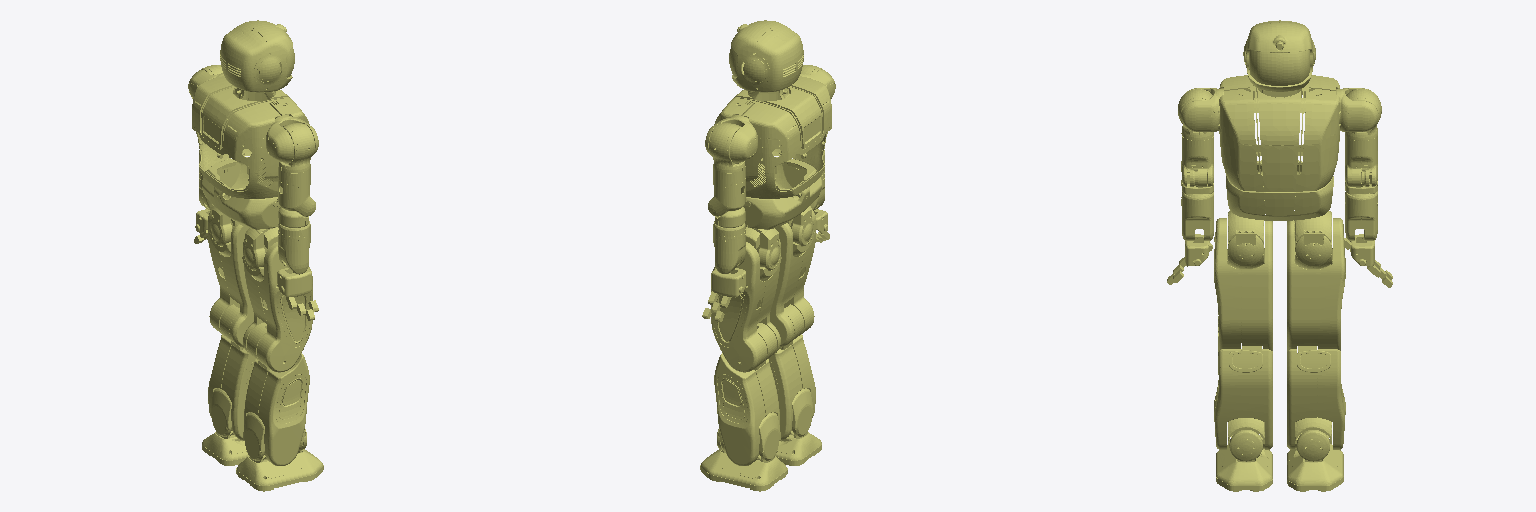
--- Render facts (derived) ---
3 views of the same robot in one strip: view 1: azimuth 30°, elevation 25°; view 2: azimuth 150°, elevation 25°; view 3: azimuth 270°, elevation 25° (orthographic).
Robot: huboplus — 58 links, 57 joints (57 revolute); root link Body_Torso; default pose: all joints at 0.
Links seen in each view (by area): view 1: Body_Torso, Body_RKP, Body_RHP, Body_HNP, Body_LHP, Body_LKP, Body_Hip, Body_RAR, Body_RSY, Body_RWY, Body_RSP, Body_RSR (+6 smaller); view 2: Body_Torso, Body_LKP, Body_LHP, Body_HNP, Body_RHP, Body_RKP, Body_Hip, Body_LAR, Body_LSY, Body_LWY, Body_LSP, Body_LSR (+6 smaller); view 3: Body_Torso, Body_RHP, Body_LHP, Body_RKP, Body_LKP, Body_HNP, Body_Hip, Body_RAR, Body_LAR, Body_LWY, Body_RWY, Body_LSY (+13 smaller).
Link boxes in pixels (box(x1,y1,x2,y2)): Body_Torso: box(192, 76, 309, 198); Body_RKP: box(244, 323, 309, 465); Body_RHP: box(243, 239, 312, 372); Body_HNP: box(220, 20, 294, 92); Body_LHP: box(208, 210, 253, 347); Body_LKP: box(208, 304, 255, 440); Body_Hip: box(202, 159, 280, 229); Body_RAR: box(236, 429, 323, 491); Body_RSY: box(278, 160, 315, 216); Body_RWY: box(278, 221, 310, 274); Body_RSP: box(266, 115, 318, 162); Body_RSR: box(279, 123, 314, 172); Body_Torso: box(714, 76, 831, 198); Body_LKP: box(714, 323, 779, 465); Body_LHP: box(711, 239, 780, 372); Body_HNP: box(729, 20, 803, 92); Body_RHP: box(770, 210, 815, 347); Body_RKP: box(768, 304, 815, 440); Body_Hip: box(743, 159, 821, 229); Body_LAR: box(700, 429, 787, 491); Body_LSY: box(708, 160, 745, 216); Body_LWY: box(713, 221, 745, 273); Body_LSP: box(705, 115, 757, 162); Body_LSR: box(709, 123, 744, 172); Body_Torso: box(1219, 75, 1339, 191); Body_RHP: box(1214, 218, 1272, 351); Body_LHP: box(1287, 218, 1345, 350); Body_RKP: box(1214, 346, 1272, 449); Body_LKP: box(1287, 346, 1345, 449); Body_HNP: box(1243, 20, 1315, 91); Body_Hip: box(1226, 160, 1333, 220); Body_RAR: box(1216, 429, 1272, 491); Body_LAR: box(1287, 429, 1343, 491); Body_LWY: box(1345, 184, 1377, 240); Body_RWY: box(1181, 185, 1213, 240); Body_LSY: box(1345, 136, 1377, 186).
Size in the robot's own frame: 0.2767 by 0.5883 by 1.29 metres.
39 mesh visuals loaded from 57 distinct referenced files (39 Collada DAE); not drawn: 18 (reference not matched to a file when rendering).

robot.urdf — huboplus:
<?xml version="1.0" ?>
<!-- =================================================================================== -->
<!-- |    This document was autogenerated by xacro from huboplus.xacro                 | -->
<!-- |    EDITING THIS FILE BY HAND IS NOT RECOMMENDED                                 | -->
<!-- =================================================================================== -->
<robot name="huboplus" xmlns:xacro="http://www.ros.org/wiki/xacro">
  <link name="Body_Torso">
    <inertial>
      <mass value="7.50334"/>
      <inertia ixx="0.102019" ixy="2.45462e-05" ixz="0.00713022" iyy="0.0832724" iyz="-0.00131733" izz="0.086493"/>
      <origin xyz="0 0 0"/>
    </inertial>
    <visual>
      <geometry>
        <mesh filename="huboplus-dae/Body_Torso_vis.dae"/>
      </geometry>
      <material name="random">
        <color rgba="0.800000 0.800000 0.500000 1"/>
      </material>
    </visual>
    <collision>
      <geometry>
        <mesh filename="huboplus-dae/Body_Torso_col.dae"/>
      </geometry>
    </collision>
  </link>
  <link name="Body_HNR">
</link>
  <link name="Body_HNP">
    <inertial>
      <mass value="0.374251"/>
      <inertia ixx="0.00164033" ixy="-1.08171e-07" ixz="-9.53978e-05" iyy="0.00153943" iyz="1.25376e-06" izz="0.00190393"/>
      <origin xyz="0.0106886 -3.00864e-05 0.032123"/>
    </inertial>
    <visual>
      <geometry>
        <mesh filename="huboplus-dae/Body_HNP_vis.dae"/>
      </geometry>
      <material name="random">
        <color rgba="0.800000 0.800000 0.500000 1"/>
      </material>
    </visual>
    <collision>
      <geometry>
        <mesh filename="huboplus-dae/Body_HNP_col.dae"/>
      </geometry>
    </collision>
  </link>
  <link name="Body_LSP">
    <inertial>
      <mass value="0.646655"/>
      <inertia ixx="0.000893731" ixy="-0.000156484" ixz="4.98007e-07" iyy="0.00093016" iyz="1.57095e-07" izz="0.00124323"/>
      <origin xyz="0.0167207 0.0570407 9.91873e-06"/>
    </inertial>
    <visual>
      <geometry>
        <mesh filename="huboplus-dae/Body_LSP_vis.dae"/>
      </geometry>
      <material name="random">
        <color rgba="0.800000 0.800000 0.500000 1"/>
      </material>
    </visual>
    <collision>
      <geometry>
        <mesh filename="huboplus-dae/Body_LSP_col.dae"/>
      </geometry>
    </collision>
  </link>
  <link name="Body_LSR">
    <inertial>
      <mass value="0.413368"/>
      <inertia ixx="0.000269283" ixy="4.52571e-07" ixz="3.23662e-06" iyy="0.00037679" iyz="9.93935e-07" izz="0.000360355"/>
      <origin xyz="-0.036208 -8.31243e-05 -0.00126685"/>
    </inertial>
    <visual>
      <geometry>
        <mesh filename="huboplus-dae/Body_LSR_vis.dae"/>
      </geometry>
      <material name="random">
        <color rgba="0.800000 0.800000 0.500000 1"/>
      </material>
    </visual>
    <collision>
      <geometry>
        <mesh filename="huboplus-dae/Body_LSR_col.dae"/>
      </geometry>
    </collision>
  </link>
  <link name="Body_LSY">
    <inertial>
      <mass value="1.15461"/>
      <inertia ixx="0.00365479" ixy="2.05436e-06" ixz="0.000418448" iyy="0.00364731" iyz="-3.09648e-05" izz="0.00060633"/>
      <origin xyz="0.00456121 3.10576e-05 -0.0907824"/>
    </inertial>
    <visual>
      <geometry>
        <mesh filename="huboplus-dae/Body_LSY_vis.dae"/>
      </geometry>
      <material name="random">
        <color rgba="0.800000 0.800000 0.500000 1"/>
      </material>
    </visual>
    <collision>
      <geometry>
        <mesh filename="huboplus-dae/Body_LSY_col.dae"/>
      </geometry>
    </collision>
  </link>
  <link name="Body_LEP">
    <inertial>
      <mass value="0.44094"/>
      <inertia ixx="0.0005027" ixy="3.64587e-06" ixz="-1.41388e-05" iyy="0.00049415" iyz="7.65528e-06" izz="0.000131786"/>
      <origin xyz="-0.0217349 0.0178314 -0.0610873"/>
    </inertial>
    <visual>
      <geometry>
        <mesh filename="huboplus-dae/Body_LEP_vis.dae"/>
      </geometry>
      <material name="random">
        <color rgba="0.800000 0.800000 0.500000 1"/>
      </material>
    </visual>
    <collision>
      <geometry>
        <mesh filename="huboplus-dae/Body_LEP_col.dae"/>
      </geometry>
    </collision>
  </link>
  <link name="Body_LWY">
    <inertial>
      <mass value="0.537738"/>
      <inertia ixx="0.00063457" ixy="-4.62486e-07" ixz="6.20682e-06" iyy="0.000563918" iyz="3.54044e-05" izz="0.000305422"/>
      <origin xyz="-0.00122019 0.000635233 -0.0238043"/>
    </inertial>
    <visual>
      <geometry>
        <mesh filename="huboplus-dae/Body_LWY_vis.dae"/>
      </geometry>
      <material name="random">
        <color rgba="0.800000 0.800000 0.500000 1"/>
      </material>
    </visual>
    <collision>
      <geometry>
        <mesh filename="huboplus-dae/Body_LWY_col.dae"/>
      </geometry>
    </collision>
  </link>
  <link name="Body_LWP">
    <inertial>
      <mass value="0.164393"/>
      <inertia ixx="9.74327e-05" ixy="-5.22155e-07" ixz="-1.17317e-06" iyy="0.000144494" iyz="9.4927e-06" izz="0.000122681"/>
      <origin xyz="-0.000258199 0.011442 -0.0461472"/>
    </inertial>
    <visual>
      <geometry>
        <mesh filename="huboplus-dae/Body_LWP_vis.dae"/>
      </geometry>
      <material name="random">
        <color rgba="0.800000 0.800000 0.500000 1"/>
      </material>
    </visual>
    <collision>
      <geometry>
        <mesh filename="huboplus-dae/Body_LWP_col.dae"/>
      </geometry>
    </collision>
  </link>
  <link name="leftThumbProximal">
    <inertial>
      <mass value="0.096"/>
      <inertia ixx="2.304e-06" ixy="0" ixz="0" iyy="8.96e-06" iyz="6.85949e-15" izz="9.216e-06"/>
      <origin xyz="0.024 0 0"/>
    </inertial>
    <visual>
      <geometry>
        <mesh filename="huboplus-dae/leftThumbProximal_vis.dae"/>
      </geometry>
      <material name="random">
        <color rgba="0.800000 0.800000 0.500000 1"/>
      </material>
    </visual>
    <collision>
      <geometry>
        <mesh filename="huboplus-dae/leftThumbProximal_vis.dae"/>
      </geometry>
    </collision>
  </link>
  <link name="leftThumbMedial">
    <inertial>
      <mass value="0.048"/>
      <inertia ixx="1.152e-06" ixy="0" ixz="0" iyy="2.59e-06" iyz="3.42975e-15" izz="2.718e-06"/>
      <origin xyz="0.0165 0 0"/>
    </inertial>
    <visual>
      <geometry>
        <mesh filename="huboplus-dae/leftThumbMedial_vis.dae"/>
      </geometry>
      <material name="random">
        <color rgba="0.800000 0.800000 0.500000 1"/>
      </material>
    </visual>
    <collision>
      <geometry>
        <mesh filename="huboplus-dae/leftThumbMedial_vis.dae"/>
      </geometry>
    </collision>
  </link>
  <link name="leftThumbDistal">
    <inertial>
      <mass value="0.08"/>
      <inertia ixx="1.92e-06" ixy="0" ixz="0" iyy="3.82667e-06" iyz="5.71624e-15" izz="4.04e-06"/>
      <origin xyz="0.015 0 0"/>
    </inertial>
    <visual>
      <geometry>
        <mesh filename="huboplus-dae/leftThumbDistal_vis.dae"/>
      </geometry>
      <material name="random">
        <color rgba="0.800000 0.800000 0.500000 1"/>
      </material>
    </visual>
    <collision>
      <geometry>
        <mesh filename="huboplus-dae/leftThumbDistal_vis.dae"/>
      </geometry>
    </collision>
  </link>
  <link name="leftPinkyProximal">
    <inertial>
      <mass value="0.096"/>
      <inertia ixx="2.304e-06" ixy="0" ixz="0" iyy="8.96e-06" iyz="6.85949e-15" izz="9.216e-06"/>
      <origin xyz="0.024 0 0"/>
    </inertial>
    <visual>
      <geometry>
        <mesh filename="huboplus-dae/leftPinkyProximal_vis.dae"/>
      </geometry>
      <material name="random">
        <color rgba="0.800000 0.800000 0.500000 1"/>
      </material>
    </visual>
    <collision>
      <geometry>
        <mesh filename="huboplus-dae/leftPinkyProximal_vis.dae"/>
      </geometry>
    </collision>
  </link>
  <link name="leftPinkyMedial">
    <inertial>
      <mass value="0.048"/>
      <inertia ixx="1.152e-06" ixy="0" ixz="0" iyy="2.59e-06" iyz="3.42975e-15" izz="2.718e-06"/>
      <origin xyz="0.0165 0 0"/>
    </inertial>
    <visual>
      <geometry>
        <mesh filename="huboplus-dae/leftPinkyMedial_vis.dae"/>
      </geometry>
      <material name="random">
        <color rgba="0.800000 0.800000 0.500000 1"/>
      </material>
    </visual>
    <collision>
      <geometry>
        <mesh filename="huboplus-dae/leftPinkyMedial_vis.dae"/>
      </geometry>
    </collision>
  </link>
  <link name="leftPinkyDistal">
    <inertial>
      <mass value="0.08"/>
      <inertia ixx="1.92e-06" ixy="0" ixz="0" iyy="3.82667e-06" iyz="5.71624e-15" izz="4.04e-06"/>
      <origin xyz="0.015 0 0"/>
    </inertial>
    <visual>
      <geometry>
        <mesh filename="huboplus-dae/leftPinkyDistal_vis.dae"/>
      </geometry>
      <material name="random">
        <color rgba="0.800000 0.800000 0.500000 1"/>
      </material>
    </visual>
    <collision>
      <geometry>
        <mesh filename="huboplus-dae/leftPinkyDistal_vis.dae"/>
      </geometry>
    </collision>
  </link>
  <link name="leftRingProximal">
    <inertial>
      <mass value="0.096"/>
      <inertia ixx="2.304e-06" ixy="0" ixz="0" iyy="8.96e-06" iyz="6.85949e-15" izz="9.216e-06"/>
      <origin xyz="0.024 0 0"/>
    </inertial>
    <visual>
      <geometry>
        <mesh filename="huboplus-dae/leftRingProximal_vis.dae"/>
      </geometry>
      <material name="random">
        <color rgba="0.800000 0.800000 0.500000 1"/>
      </material>
    </visual>
    <collision>
      <geometry>
        <mesh filename="huboplus-dae/leftRingProximal_vis.dae"/>
      </geometry>
    </collision>
  </link>
  <link name="leftRingMedial">
    <inertial>
      <mass value="0.048"/>
      <inertia ixx="1.152e-06" ixy="0" ixz="0" iyy="2.59e-06" iyz="3.42975e-15" izz="2.718e-06"/>
      <origin xyz="0.0165 0 0"/>
    </inertial>
    <visual>
      <geometry>
        <mesh filename="huboplus-dae/leftRingMedial_vis.dae"/>
      </geometry>
      <material name="random">
        <color rgba="0.800000 0.800000 0.500000 1"/>
      </material>
    </visual>
    <collision>
      <geometry>
        <mesh filename="huboplus-dae/leftRingMedial_vis.dae"/>
      </geometry>
    </collision>
  </link>
  <link name="leftRingDistal">
    <inertial>
      <mass value="0.08"/>
      <inertia ixx="1.92e-06" ixy="0" ixz="0" iyy="3.82667e-06" iyz="5.71624e-15" izz="4.04e-06"/>
      <origin xyz="0.015 0 0"/>
    </inertial>
    <visual>
      <geometry>
        <mesh filename="huboplus-dae/leftRingDistal_vis.dae"/>
      </geometry>
      <material name="random">
        <color rgba="0.800000 0.800000 0.500000 1"/>
      </material>
    </visual>
    <collision>
      <geometry>
        <mesh filename="huboplus-dae/leftRingDistal_vis.dae"/>
      </geometry>
    </collision>
  </link>
  <link name="leftMiddleProximal">
    <inertial>
      <mass value="0.096"/>
      <inertia ixx="2.304e-06" ixy="0" ixz="0" iyy="8.96e-06" iyz="6.85949e-15" izz="9.216e-06"/>
      <origin xyz="0.024 0 0"/>
    </inertial>
    <visual>
      <geometry>
        <mesh filename="huboplus-dae/leftMiddleProximal_vis.dae"/>
      </geometry>
      <material name="random">
        <color rgba="0.800000 0.800000 0.500000 1"/>
      </material>
    </visual>
    <collision>
      <geometry>
        <mesh filename="huboplus-dae/leftMiddleProximal_vis.dae"/>
      </geometry>
    </collision>
  </link>
  <link name="leftMiddleMedial">
    <inertial>
      <mass value="0.048"/>
      <inertia ixx="1.152e-06" ixy="0" ixz="0" iyy="2.59e-06" iyz="3.42975e-15" izz="2.718e-06"/>
      <origin xyz="0.0165 0 0"/>
    </inertial>
    <visual>
      <geometry>
        <mesh filename="huboplus-dae/leftMiddleMedial_vis.dae"/>
      </geometry>
      <material name="random">
        <color rgba="0.800000 0.800000 0.500000 1"/>
      </material>
    </visual>
    <collision>
      <geometry>
        <mesh filename="huboplus-dae/leftMiddleMedial_vis.dae"/>
      </geometry>
    </collision>
  </link>
  <link name="leftMiddleDistal">
    <inertial>
      <mass value="0.08"/>
      <inertia ixx="1.92e-06" ixy="0" ixz="0" iyy="3.82667e-06" iyz="5.71624e-15" izz="4.04e-06"/>
      <origin xyz="0.015 0 0"/>
    </inertial>
    <visual>
      <geometry>
        <mesh filename="huboplus-dae/leftMiddleDistal_vis.dae"/>
      </geometry>
      <material name="random">
        <color rgba="0.800000 0.800000 0.500000 1"/>
      </material>
    </visual>
    <collision>
      <geometry>
        <mesh filename="huboplus-dae/leftMiddleDistal_vis.dae"/>
      </geometry>
    </collision>
  </link>
  <link name="leftIndexProximal">
    <inertial>
      <mass value="0.096"/>
      <inertia ixx="2.304e-06" ixy="0" ixz="0" iyy="8.96e-06" iyz="6.85949e-15" izz="9.216e-06"/>
      <origin xyz="0.024 0 0"/>
    </inertial>
    <visual>
      <geometry>
        <mesh filename="huboplus-dae/leftIndexProximal_vis.dae"/>
      </geometry>
      <material name="random">
        <color rgba="0.800000 0.800000 0.500000 1"/>
      </material>
    </visual>
    <collision>
      <geometry>
        <mesh filename="huboplus-dae/leftIndexProximal_vis.dae"/>
      </geometry>
    </collision>
  </link>
  <link name="leftIndexMedial">
    <inertial>
      <mass value="0.048"/>
      <inertia ixx="1.152e-06" ixy="0" ixz="0" iyy="2.59e-06" iyz="3.42975e-15" izz="2.718e-06"/>
      <origin xyz="0.0165 0 0"/>
    </inertial>
    <visual>
      <geometry>
        <mesh filename="huboplus-dae/leftIndexMedial_vis.dae"/>
      </geometry>
      <material name="random">
        <color rgba="0.800000 0.800000 0.500000 1"/>
      </material>
    </visual>
    <collision>
      <geometry>
        <mesh filename="huboplus-dae/leftIndexMedial_vis.dae"/>
      </geometry>
    </collision>
  </link>
  <link name="leftIndexDistal">
    <inertial>
      <mass value="0.08"/>
      <inertia ixx="1.92e-06" ixy="0" ixz="0" iyy="3.82667e-06" iyz="5.71624e-15" izz="4.04e-06"/>
      <origin xyz="0.015 0 0"/>
    </inertial>
    <visual>
      <geometry>
        <mesh filename="huboplus-dae/leftIndexDistal_vis.dae"/>
      </geometry>
      <material name="random">
        <color rgba="0.800000 0.800000 0.500000 1"/>
      </material>
    </visual>
    <collision>
      <geometry>
        <mesh filename="huboplus-dae/leftIndexDistal_vis.dae"/>
      </geometry>
    </collision>
  </link>
  <link name="Body_RSP">
    <inertial>
      <mass value="0.646655"/>
      <inertia ixx="0.000893731" ixy="0.000156484" ixz="4.98007e-07" iyy="0.00093016" iyz="-1.57095e-07" izz="0.00124323"/>
      <origin xyz="0.0167207 -0.0570407 9.91873e-06"/>
    </inertial>
    <visual>
      <geometry>
        <mesh filename="huboplus-dae/Body_RSP_vis.dae"/>
      </geometry>
      <material name="random">
        <color rgba="0.800000 0.800000 0.500000 1"/>
      </material>
    </visual>
    <collision>
      <geometry>
        <mesh filename="huboplus-dae/Body_RSP_col.dae"/>
      </geometry>
    </collision>
  </link>
  <link name="Body_RSR">
    <inertial>
      <mass value="0.413368"/>
      <inertia ixx="0.000269283" ixy="-4.52571e-07" ixz="3.23662e-06" iyy="0.00037679" iyz="-9.93935e-07" izz="0.000360355"/>
      <origin xyz="-0.036208 8.31243e-05 -0.00126685"/>
    </inertial>
    <visual>
      <geometry>
        <mesh filename="huboplus-dae/Body_RSR_vis.dae"/>
      </geometry>
      <material name="random">
        <color rgba="0.800000 0.800000 0.500000 1"/>
      </material>
    </visual>
    <collision>
      <geometry>
        <mesh filename="huboplus-dae/Body_RSR_col.dae"/>
      </geometry>
    </collision>
  </link>
  <link name="Body_RSY">
    <inertial>
      <mass value="1.15461"/>
      <inertia ixx="0.00365479" ixy="-2.05436e-06" ixz="0.000418448" iyy="0.00364731" iyz="3.09648e-05" izz="0.00060633"/>
      <origin xyz="0.00456121 -3.10576e-05 -0.0907824"/>
    </inertial>
    <visual>
      <geometry>
        <mesh filename="huboplus-dae/Body_RSY_vis.dae"/>
      </geometry>
      <material name="random">
        <color rgba="0.800000 0.800000 0.500000 1"/>
      </material>
    </visual>
    <collision>
      <geometry>
        <mesh filename="huboplus-dae/Body_RSY_col.dae"/>
      </geometry>
    </collision>
  </link>
  <link name="Body_REP">
    <inertial>
      <mass value="0.44094"/>
      <inertia ixx="0.0005027" ixy="-3.64587e-06" ixz="-1.41388e-05" iyy="0.00049415" iyz="-7.65528e-06" izz="0.000131786"/>
      <origin xyz="-0.0217349 -0.0178314 -0.0610873"/>
    </inertial>
    <visual>
      <geometry>
        <mesh filename="huboplus-dae/Body_REP_vis.dae"/>
      </geometry>
      <material name="random">
        <color rgba="0.800000 0.800000 0.500000 1"/>
      </material>
    </visual>
    <collision>
      <geometry>
        <mesh filename="huboplus-dae/Body_REP_col.dae"/>
      </geometry>
    </collision>
  </link>
  <link name="Body_RWY">
    <inertial>
      <mass value="0.537738"/>
      <inertia ixx="0.00063457" ixy="4.62486e-07" ixz="6.20682e-06" iyy="0.000563918" iyz="-3.54044e-05" izz="0.000305422"/>
      <origin xyz="-0.00122019 -0.000635233 -0.0238043"/>
    </inertial>
    <visual>
      <geometry>
        <mesh filename="huboplus-dae/Body_RWY_vis.dae"/>
      </geometry>
      <material name="random">
        <color rgba="0.800000 0.800000 0.500000 1"/>
      </material>
    </visual>
    <collision>
      <geometry>
        <mesh filename="huboplus-dae/Body_RWY_col.dae"/>
      </geometry>
    </collision>
  </link>
  <link name="Body_RWP">
    <inertial>
      <mass value="0.164393"/>
      <inertia ixx="9.74327e-05" ixy="5.22155e-07" ixz="-1.17317e-06" iyy="0.000144494" iyz="-9.4927e-06" izz="0.000122681"/>
      <origin xyz="-0.000258199 -0.011442 -0.0461472"/>
    </inertial>
    <visual>
      <geometry>
        <mesh filename="huboplus-dae/Body_RWP_vis.dae"/>
      </geometry>
      <material name="random">
        <color rgba="0.800000 0.800000 0.500000 1"/>
      </material>
    </visual>
    <collision>
      <geometry>
        <mesh filename="huboplus-dae/Body_RWP_col.dae"/>
      </geometry>
    </collision>
  </link>
  <link name="rightThumbProximal">
    <inertial>
      <mass value="0.096"/>
      <inertia ixx="2.304e-06" ixy="0" ixz="0" iyy="8.96e-06" iyz="6.85949e-15" izz="9.216e-06"/>
      <origin xyz="0.024 0 0"/>
    </inertial>
    <visual>
      <geometry>
        <mesh filename="huboplus-dae/rightThumbProximal_vis.dae"/>
      </geometry>
      <material name="random">
        <color rgba="0.800000 0.800000 0.500000 1"/>
      </material>
    </visual>
    <collision>
      <geometry>
        <mesh filename="huboplus-dae/rightThumbProximal_vis.dae"/>
      </geometry>
    </collision>
  </link>
  <link name="rightThumbMedial">
    <inertial>
      <mass value="0.048"/>
      <inertia ixx="1.152e-06" ixy="0" ixz="0" iyy="2.59e-06" iyz="3.42975e-15" izz="2.718e-06"/>
      <origin xyz="0.0165 0 0"/>
    </inertial>
    <visual>
      <geometry>
        <mesh filename="huboplus-dae/rightThumbMedial_vis.dae"/>
      </geometry>
      <material name="random">
        <color rgba="0.800000 0.800000 0.500000 1"/>
      </material>
    </visual>
    <collision>
      <geometry>
        <mesh filename="huboplus-dae/rightThumbMedial_vis.dae"/>
      </geometry>
    </collision>
  </link>
  <link name="rightThumbDistal">
    <inertial>
      <mass value="0.08"/>
      <inertia ixx="1.92e-06" ixy="0" ixz="0" iyy="3.82667e-06" iyz="5.71624e-15" izz="4.04e-06"/>
      <origin xyz="0.015 0 0"/>
    </inertial>
    <visual>
      <geometry>
        <mesh filename="huboplus-dae/rightThumbDistal_vis.dae"/>
      </geometry>
      <material name="random">
        <color rgba="0.800000 0.800000 0.500000 1"/>
      </material>
    </visual>
    <collision>
      <geometry>
        <mesh filename="huboplus-dae/rightThumbDistal_vis.dae"/>
      </geometry>
    </collision>
  </link>
  <link name="rightPinkyProximal">
    <inertial>
      <mass value="0.096"/>
      <inertia ixx="2.304e-06" ixy="0" ixz="0" iyy="8.96e-06" iyz="6.85949e-15" izz="9.216e-06"/>
      <origin xyz="0.024 0 0"/>
    </inertial>
    <visual>
      <geometry>
        <mesh filename="huboplus-dae/rightPinkyProximal_vis.dae"/>
      </geometry>
      <material name="random">
        <color rgba="0.800000 0.800000 0.500000 1"/>
      </material>
    </visual>
    <collision>
      <geometry>
        <mesh filename="huboplus-dae/rightPinkyProximal_vis.dae"/>
      </geometry>
    </collision>
  </link>
  <link name="rightPinkyMedial">
    <inertial>
      <mass value="0.048"/>
      <inertia ixx="1.152e-06" ixy="0" ixz="0" iyy="2.59e-06" iyz="3.42975e-15" izz="2.718e-06"/>
      <origin xyz="0.0165 0 0"/>
    </inertial>
    <visual>
      <geometry>
        <mesh filename="huboplus-dae/rightPinkyMedial_vis.dae"/>
      </geometry>
      <material name="random">
        <color rgba="0.800000 0.800000 0.500000 1"/>
      </material>
    </visual>
    <collision>
      <geometry>
        <mesh filename="huboplus-dae/rightPinkyMedial_vis.dae"/>
      </geometry>
    </collision>
  </link>
  <link name="rightPinkyDistal">
    <inertial>
      <mass value="0.08"/>
      <inertia ixx="1.92e-06" ixy="0" ixz="0" iyy="3.82667e-06" iyz="5.71624e-15" izz="4.04e-06"/>
      <origin xyz="0.015 0 0"/>
    </inertial>
    <visual>
      <geometry>
        <mesh filename="huboplus-dae/rightPinkyDistal_vis.dae"/>
      </geometry>
      <material name="random">
        <color rgba="0.800000 0.800000 0.500000 1"/>
      </material>
    </visual>
    <collision>
      <geometry>
        <mesh filename="huboplus-dae/rightPinkyDistal_vis.dae"/>
      </geometry>
    </collision>
  </link>
  <link name="rightRingProximal">
    <inertial>
      <mass value="0.096"/>
      <inertia ixx="2.304e-06" ixy="0" ixz="0" iyy="8.96e-06" iyz="6.85949e-15" izz="9.216e-06"/>
      <origin xyz="0.024 0 0"/>
    </inertial>
    <visual>
      <geometry>
        <mesh filename="huboplus-dae/rightRingProximal_vis.dae"/>
      </geometry>
      <material name="random">
        <color rgba="0.800000 0.800000 0.500000 1"/>
      </material>
    </visual>
    <collision>
      <geometry>
        <mesh filename="huboplus-dae/rightRingProximal_vis.dae"/>
      </geometry>
    </collision>
  </link>
  <link name="rightRingMedial">
    <inertial>
      <mass value="0.048"/>
      <inertia ixx="1.152e-06" ixy="0" ixz="0" iyy="2.59e-06" iyz="3.42975e-15" izz="2.718e-06"/>
      <origin xyz="0.0165 0 0"/>
    </inertial>
    <visual>
      <geometry>
        <mesh filename="huboplus-dae/rightRingMedial_vis.dae"/>
      </geometry>
      <material name="random">
        <color rgba="0.800000 0.800000 0.500000 1"/>
      </material>
    </visual>
    <collision>
      <geometry>
        <mesh filename="huboplus-dae/rightRingMedial_vis.dae"/>
      </geometry>
    </collision>
  </link>
  <link name="rightRingDistal">
    <inertial>
      <mass value="0.08"/>
      <inertia ixx="1.92e-06" ixy="0" ixz="0" iyy="3.82667e-06" iyz="5.71624e-15" izz="4.04e-06"/>
      <origin xyz="0.015 0 0"/>
    </inertial>
    <visual>
      <geometry>
        <mesh filename="huboplus-dae/rightRingDistal_vis.dae"/>
      </geometry>
      <material name="random">
        <color rgba="0.800000 0.800000 0.500000 1"/>
      </material>
    </visual>
    <collision>
      <geometry>
        <mesh filename="huboplus-dae/rightRingDistal_vis.dae"/>
      </geometry>
    </collision>
  </link>
  <link name="rightMiddleProximal">
    <inertial>
      <mass value="0.096"/>
      <inertia ixx="2.304e-06" ixy="0" ixz="0" iyy="8.96e-06" iyz="6.85949e-15" izz="9.216e-06"/>
      <origin xyz="0.024 0 0"/>
    </inertial>
    <visual>
      <geometry>
        <mesh filename="huboplus-dae/rightMiddleProximal_vis.dae"/>
      </geometry>
      <material name="random">
        <color rgba="0.800000 0.800000 0.500000 1"/>
      </material>
    </visual>
    <collision>
      <geometry>
        <mesh filename="huboplus-dae/rightMiddleProximal_vis.dae"/>
      </geometry>
    </collision>
  </link>
  <link name="rightMiddleMedial">
    <inertial>
      <mass value="0.048"/>
      <inertia ixx="1.152e-06" ixy="0" ixz="0" iyy="2.59e-06" iyz="3.42975e-15" izz="2.718e-06"/>
      <origin xyz="0.0165 0 0"/>
    </inertial>
    <visual>
      <geometry>
        <mesh filename="huboplus-dae/rightMiddleMedial_vis.dae"/>
      </geometry>
      <material name="random">
        <color rgba="0.800000 0.800000 0.500000 1"/>
      </material>
    </visual>
    <collision>
      <geometry>
        <mesh filename="huboplus-dae/rightMiddleMedial_vis.dae"/>
      </geometry>
    </collision>
  </link>
  <link name="rightMiddleDistal">
    <inertial>
      <mass value="0.08"/>
      <inertia ixx="1.92e-06" ixy="0" ixz="0" iyy="3.82667e-06" iyz="5.71624e-15" izz="4.04e-06"/>
      <origin xyz="0.015 0 0"/>
    </inertial>
    <visual>
      <geometry>
        <mesh filename="huboplus-dae/rightMiddleDistal_vis.dae"/>
      </geometry>
      <material name="random">
        <color rgba="0.800000 0.800000 0.500000 1"/>
      </material>
    </visual>
    <collision>
      <geometry>
        <mesh filename="huboplus-dae/rightMiddleDistal_vis.dae"/>
      </geometry>
    </collision>
  </link>
  <link name="rightIndexProximal">
    <inertial>
      <mass value="0.096"/>
      <inertia ixx="2.304e-06" ixy="0" ixz="0" iyy="8.96e-06" iyz="6.85949e-15" izz="9.216e-06"/>
      <origin xyz="0.024 0 0"/>
    </inertial>
    <visual>
      <geometry>
        <mesh filename="huboplus-dae/rightIndexProximal_vis.dae"/>
      </geometry>
      <material name="random">
        <color rgba="0.800000 0.800000 0.500000 1"/>
      </material>
    </visual>
    <collision>
      <geometry>
        <mesh filename="huboplus-dae/rightIndexProximal_vis.dae"/>
      </geometry>
    </collision>
  </link>
  <link name="rightIndexMedial">
    <inertial>
      <mass value="0.048"/>
      <inertia ixx="1.152e-06" ixy="0" ixz="0" iyy="2.59e-06" iyz="3.42975e-15" izz="2.718e-06"/>
      <origin xyz="0.0165 0 0"/>
    </inertial>
    <visual>
      <geometry>
        <mesh filename="huboplus-dae/rightIndexMedial_vis.dae"/>
      </geometry>
      <material name="random">
        <color rgba="0.800000 0.800000 0.500000 1"/>
      </material>
    </visual>
    <collision>
      <geometry>
        <mesh filename="huboplus-dae/rightIndexMedial_vis.dae"/>
      </geometry>
    </collision>
  </link>
  <link name="rightIndexDistal">
    <inertial>
      <mass value="0.08"/>
      <inertia ixx="1.92e-06" ixy="0" ixz="0" iyy="3.82667e-06" iyz="5.71624e-15" izz="4.04e-06"/>
      <origin xyz="0.015 0 0"/>
    </inertial>
    <visual>
      <geometry>
        <mesh filename="huboplus-dae/rightIndexDistal_vis.dae"/>
      </geometry>
      <material name="random">
        <color rgba="0.800000 0.800000 0.500000 1"/>
      </material>
    </visual>
    <collision>
      <geometry>
        <mesh filename="huboplus-dae/rightIndexDistal_vis.dae"/>
      </geometry>
    </collision>
  </link>
  <link name="Body_Hip">
    <inertial>
      <mass value="3.41719"/>
      <inertia ixx="0.0180349" ixy="3.17531e-05" ixz="-0.000513489" iyy="0.00912382" iyz="-6.90617e-05" izz="0.0220514"/>
      <origin xyz="-0.0138504 7.80652e-06 -0.0354613"/>
    </inertial>
    <visual>
      <geometry>
        <mesh filename="huboplus-dae/Body_Hip_vis.dae"/>
      </geometry>
      <material name="random">
        <color rgba="0.800000 0.800000 0.500000 1"/>
      </material>
    </visual>
    <collision>
      <geometry>
        <mesh filename="huboplus-dae/Body_Hip_col.dae"/>
      </geometry>
    </collision>
  </link>
  <link name="Body_LHY">
    <inertial>
      <mass value="0.826125"/>
      <inertia ixx="0.00151818" ixy="2.13586e-06" ixz="0.000434128" iyy="0.00286333" iyz="-1.57525e-07" izz="0.00211437"/>
      <origin xyz="0.0347065 3.748e-05 -0.0726153"/>
    </inertial>
    <visual>
      <geometry>
        <mesh filename="huboplus-dae/Body_LHY_vis.dae"/>
      </geometry>
      <material name="random">
        <color rgba="0.800000 0.800000 0.500000 1"/>
      </material>
    </visual>
    <collision>
      <geometry>
        <mesh filename="huboplus-dae/Body_LHY_col.dae"/>
      </geometry>
    </collision>
  </link>
  <link name="Body_LHR">
    <inertial>
      <mass value="1.93266"/>
      <inertia ixx="0.00403487" ixy="7.9452e-05" ixz="-0.000125343" iyy="0.00332707" iyz="-0.000551964" izz="0.00317173"/>
      <origin xyz="-0.0497479 0.0125311 -0.0156437"/>
    </inertial>
    <visual>
      <geometry>
        <mesh filename="huboplus-dae/Body_LHR_vis.dae"/>
      </geometry>
      <material name="random">
        <color rgba="0.800000 0.800000 0.500000 1"/>
      </material>
    </visual>
    <collision>
      <geometry>
        <mesh filename="huboplus-dae/Body_LHR_col.dae"/>
      </geometry>
    </collision>
  </link>
  <link name="Body_LHP">
    <inertial>
      <mass value="2.8201"/>
      <inertia ixx="0.0295102" ixy="0.000184399" ixz="-0.000370291" iyy="0.0273771" iyz="0.00065658" izz="0.00838035"/>
      <origin xyz="0.0195049 -0.0595775 -0.175202"/>
    </inertial>
    <visual>
      <geometry>
        <mesh filename="huboplus-dae/Body_LHP_vis.dae"/>
      </geometry>
      <material name="random">
        <color rgba="0.800000 0.800000 0.500000 1"/>
      </material>
    </visual>
    <collision>
      <geometry>
        <mesh filename="huboplus-dae/Body_LHP_col.dae"/>
      </geometry>
    </collision>
  </link>
  <link name="Body_LKP">
    <inertial>
      <mass value="1.80912"/>
      <inertia ixx="0.0232156" ixy="0.000251648" ixz="-0.00129343" iyy="0.0208342" iyz="0.00278068" izz="0.0059204"/>
      <origin xyz="0.0128254 -0.00727567 -0.171431"/>
    </inertial>
    <visual>
      <geometry>
        <mesh filename="huboplus-dae/Body_LKP_vis.dae"/>
      </geometry>
      <material name="random">
        <color rgba="0.800000 0.800000 0.500000 1"/>
      </material>
    </visual>
    <collision>
      <geometry>
        <mesh filename="huboplus-dae/Body_LKP_col.dae"/>
      </geometry>
    </collision>
  </link>
  <link name="Body_LAP">
    <inertial>
      <mass value="1.63501"/>
      <inertia ixx="0.00231659" ixy="1.87402e-05" ixz="0.000369899" iyy="0.00330411" iyz="6.38153e-05" izz="0.00279495"/>
      <origin xyz="0.0198702 -0.0459693 0.0115069"/>
    </inertial>
    <visual>
      <geometry>
        <mesh filename="huboplus-dae/Body_LAP_vis.dae"/>
      </geometry>
      <material name="random">
        <color rgba="0.800000 0.800000 0.500000 1"/>
      </material>
    </visual>
    <collision>
      <geometry>
        <mesh filename="huboplus-dae/Body_LAP_col.dae"/>
      </geometry>
    </collision>
  </link>
  <link name="Body_LAR">
    <inertial>
      <mass value="1.20318"/>
      <inertia ixx="0.00295183" ixy="3.23211e-05" ixz="0.000141769" iyy="0.00524792" iyz="5.95404e-05" izz="0.00516817"/>
      <origin xyz="-0.0515094 0.00216398 -0.0693881"/>
    </inertial>
    <visual>
      <geometry>
        <mesh filename="huboplus-dae/Body_LAR_vis.dae"/>
      </geometry>
      <material name="random">
        <color rgba="0.800000 0.800000 0.500000 1"/>
      </material>
    </visual>
    <collision>
      <geometry>
        <mesh filename="huboplus-dae/Body_LAR_col.dae"/>
      </geometry>
    </collision>
  </link>
  <link name="Body_RHY">
    <inertial>
      <mass value="0.826125"/>
      <inertia ixx="0.00151818" ixy="-2.13586e-06" ixz="0.000434128" iyy="0.00286333" iyz="1.57525e-07" izz="0.00211437"/>
      <origin xyz="0.0347065 -3.748e-05 -0.0726153"/>
    </inertial>
    <visual>
      <geometry>
        <mesh filename="huboplus-dae/Body_RHY_vis.dae"/>
      </geometry>
      <material name="random">
        <color rgba="0.800000 0.800000 0.500000 1"/>
      </material>
    </visual>
    <collision>
      <geometry>
        <mesh filename="huboplus-dae/Body_RHY_col.dae"/>
      </geometry>
    </collision>
  </link>
  <link name="Body_RHR">
    <inertial>
      <mass value="1.93266"/>
      <inertia ixx="0.00403487" ixy="-7.9452e-05" ixz="-0.000125343" iyy="0.00332707" iyz="0.000551964" izz="0.00317173"/>
      <origin xyz="-0.0497479 -0.0125311 -0.0156437"/>
    </inertial>
    <visual>
      <geometry>
        <mesh filename="huboplus-dae/Body_RHR_vis.dae"/>
      </geometry>
      <material name="random">
        <color rgba="0.800000 0.800000 0.500000 1"/>
      </material>
    </visual>
    <collision>
      <geometry>
        <mesh filename="huboplus-dae/Body_RHR_col.dae"/>
      </geometry>
    </collision>
  </link>
  <link name="Body_RHP">
    <inertial>
      <mass value="2.8201"/>
      <inertia ixx="0.0295102" ixy="-0.000184399" ixz="-0.000370291" iyy="0.0273771" iyz="-0.00065658" izz="0.00838035"/>
      <origin xyz="0.0195049 0.0595775 -0.175202"/>
    </inertial>
    <visual>
      <geometry>
        <mesh filename="huboplus-dae/Body_RHP_vis.dae"/>
      </geometry>
      <material name="random">
        <color rgba="0.800000 0.800000 0.500000 1"/>
      </material>
    </visual>
    <collision>
      <geometry>
        <mesh filename="huboplus-dae/Body_RHP_col.dae"/>
      </geometry>
    </collision>
  </link>
  <link name="Body_RKP">
    <inertial>
      <mass value="1.80912"/>
      <inertia ixx="0.0232156" ixy="-0.000251648" ixz="-0.00129343" iyy="0.0208342" iyz="-0.00278068" izz="0.0059204"/>
      <origin xyz="0.0128254 0.00727567 -0.171431"/>
    </inertial>
    <visual>
      <geometry>
        <mesh filename="huboplus-dae/Body_RKP_vis.dae"/>
      </geometry>
      <material name="random">
        <color rgba="0.800000 0.800000 0.500000 1"/>
      </material>
    </visual>
    <collision>
      <geometry>
        <mesh filename="huboplus-dae/Body_RKP_col.dae"/>
      </geometry>
    </collision>
  </link>
  <link name="Body_RAP">
    <inertial>
      <mass value="1.63501"/>
      <inertia ixx="0.00231659" ixy="-1.87402e-05" ixz="0.000369899" iyy="0.00330411" iyz="-6.38153e-05" izz="0.00279495"/>
      <origin xyz="0.0198702 0.0459693 0.0115069"/>
    </inertial>
    <visual>
      <geometry>
        <mesh filename="huboplus-dae/Body_RAP_vis.dae"/>
      </geometry>
      <material name="random">
        <color rgba="0.800000 0.800000 0.500000 1"/>
      </material>
    </visual>
    <collision>
      <geometry>
        <mesh filename="huboplus-dae/Body_RAP_col.dae"/>
      </geometry>
    </collision>
  </link>
  <link name="Body_RAR">
    <inertial>
      <mass value="1.20318"/>
      <inertia ixx="0.00295183" ixy="-3.23211e-05" ixz="0.000141769" iyy="0.00524792" iyz="-5.95404e-05" izz="0.00516817"/>
      <origin xyz="-0.0515094 -0.00216398 -0.0693881"/>
    </inertial>
    <visual>
      <geometry>
        <mesh filename="huboplus-dae/Body_RAR_vis.dae"/>
      </geometry>
      <material name="random">
        <color rgba="0.800000 0.800000 0.500000 1"/>
      </material>
    </visual>
    <collision>
      <geometry>
        <mesh filename="huboplus-dae/Body_RAR_col.dae"/>
      </geometry>
    </collision>
  </link>
  <joint name="HNR" type="revolute">
    <origin rpy="0 -0 0" xyz="0.0122581 0.0024526 0.196935"/>
    <parent link="Body_Torso"/>
    <child link="Body_HNR"/>
    <axis xyz="1 0 0"/>
    <limit effort="10.0" lower="-0.523599" upper="0.523599" velocity="1.0"/>
  </joint>
  <joint name="HNP" type="revolute">
    <origin rpy="0 -0 0" xyz="0 0 0"/>
    <parent link="Body_HNR"/>
    <child link="Body_HNP"/>
    <axis xyz="0 1 0"/>
    <limit effort="10.0" lower="-0.523599" upper="0.523599" velocity="1.0"/>
  </joint>
  <joint name="LSP" type="revolute">
    <origin rpy="0 -0 0" xyz="0.0122581 0.143973 0.0486356"/>
    <parent link="Body_Torso"/>
    <child link="Body_LSP"/>
    <axis xyz="0 1 0"/>
    <limit effort="10.0" lower="-3.14158" upper="3.14158" velocity="1.0"/>
  </joint>
  <joint name="LSR" type="revolute">
    <origin rpy="0 -0 0" xyz="0.0269 0.072 0"/>
    <parent link="Body_LSP"/>
    <child link="Body_LSR"/>
    <axis xyz="1 0 0"/>
    <limit effort="10.0" lower="-1.5708" upper="1.5708" velocity="1.0"/>
  </joint>
  <joint name="LSY" type="revolute">
    <origin rpy="0 -0 0" xyz="-0.0269 -0.000166249 -0.0245"/>
    <parent link="Body_LSR"/>
    <child link="Body_LSY"/>
    <axis xyz="0 0 1"/>
    <limit effort="10.0" lower="-3.14158" upper="3.14158" velocity="1.0"/>
  </joint>
  <joint name="LEP" type="revolute">
    <origin rpy="0 -0 0" xyz="0.0219936 -0.018 -0.157505"/>
    <parent link="Body_LSY"/>
    <child link="Body_LEP"/>
    <axis xyz="0 1 0"/>
    <limit effort="10.0" lower="-2.49582" upper="0.0698132" velocity="1.0"/>
  </joint>
  <joint name="LWY" type="revolute">
    <origin rpy="0 -0 0" xyz="-0.0219906 0.018 -0.111408"/>
    <parent link="Body_LEP"/>
    <child link="Body_LWY"/>
    <axis xyz="0 0 1"/>
    <limit effort="10.0" lower="-3.14158" upper="3.14158" velocity="1.0"/>
  </joint>
  <joint name="LWP" type="revolute">
    <origin rpy="0 -0 0" xyz="1.72973e-06 -0.00872953 -0.05255"/>
    <parent link="Body_LWY"/>
    <child link="Body_LWP"/>
    <axis xyz="0 1 0"/>
    <limit effort="10.0" lower="-1.64061" upper="1.01229" velocity="1.0"/>
  </joint>
  <joint name="leftThumbKnuckle1" type="revolute">
    <origin rpy="1.5708 -0.785398 -1.5708" xyz="0.0208959 0.00192069 -0.060952"/>
    <parent link="Body_LWP"/>
    <child link="leftThumbProximal"/>
    <axis xyz="0 0 1"/>
    <limit effort="10.0" lower="-3.14" upper="3.14" velocity="1.0"/>
  </joint>
  <joint name="Knuckle29" type="revolute">
    <origin rpy="0 -0 0" xyz="0.032 0 0"/>
    <parent link="leftThumbProximal"/>
    <child link="leftThumbMedial"/>
    <axis xyz="0 0 -1"/>
    <limit effort="10.0" lower="-3.14" upper="3.14" velocity="1.0"/>
  </joint>
  <joint name="Knuckle310" type="revolute">
    <origin rpy="0 -0 0" xyz="0.022 0 0"/>
    <parent link="leftThumbMedial"/>
    <child link="leftThumbDistal"/>
    <axis xyz="0 0 -1"/>
    <limit effort="10.0" lower="-3.14" upper="3.14" velocity="1.0"/>
  </joint>
  <joint name="leftPinkyKnuckle1" type="revolute">
    <origin rpy="1.5708 0.785398 1.5708" xyz="-0.0281041 0.0298617 -0.088883"/>
    <parent link="Body_LWP"/>
    <child link="leftPinkyProximal"/>
    <axis xyz="0 0 1"/>
    <limit effort="10.0" lower="-3.14" upper="3.14" velocity="1.0"/>
  </joint>
  <joint name="Knuckle212" type="revolute">
    <origin rpy="0 -0 0" xyz="0.032 0 0"/>
    <parent link="leftPinkyProximal"/>
    <child link="leftPinkyMedial"/>
    <axis xyz="0 0 -1"/>
    <limit effort="10.0" lower="-3.14" upper="3.14" velocity="1.0"/>
  </joint>
  <joint name="Knuckle313" type="revolute">
    <origin rpy="0 -0 0" xyz="0.022 0 0"/>
    <parent link="leftPinkyMedial"/>
    <child link="leftPinkyDistal"/>
    <axis xyz="0 0 -1"/>
    <limit effort="10.0" lower="-3.14" upper="3.14" velocity="1.0"/>
  </joint>
  <joint name="leftRingKnuckle1" type="revolute">
    <origin rpy="1.5708 0.785398 1.5708" xyz="-0.00910415 0.0298617 -0.088883"/>
    <parent link="Body_LWP"/>
    <child link="leftRingProximal"/>
    <axis xyz="0 0 1"/>
    <limit effort="10.0" lower="-3.14" upper="3.14" velocity="1.0"/>
  </joint>
  <joint name="Knuckle215" type="revolute">
    <origin rpy="0 -0 0" xyz="0.032 0 0"/>
    <parent link="leftRingProximal"/>
    <child link="leftRingMedial"/>
    <axis xyz="0 0 -1"/>
    <limit effort="10.0" lower="-3.14" upper="3.14" velocity="1.0"/>
  </joint>
  <joint name="Knuckle316" type="revolute">
    <origin rpy="0 -0 0" xyz="0.022 0 0"/>
    <parent link="leftRingMedial"/>
    <child link="leftRingDistal"/>
    <axis xyz="0 0 -1"/>
    <limit effort="10.0" lower="-3.14" upper="3.14" velocity="1.0"/>
  </joint>
  <joint name="leftMiddleKnuckle1" type="revolute">
    <origin rpy="1.5708 0.785398 1.5708" xyz="0.00993585 0.0298617 -0.088883"/>
    <parent link="Body_LWP"/>
    <child link="leftMiddleProximal"/>
    <axis xyz="0 0 1"/>
    <limit effort="10.0" lower="-3.14" upper="3.14" velocity="1.0"/>
  </joint>
  <joint name="Knuckle218" type="revolute">
    <origin rpy="0 -0 0" xyz="0.032 0 0"/>
    <parent link="leftMiddleProximal"/>
    <child link="leftMiddleMedial"/>
    <axis xyz="0 0 -1"/>
    <limit effort="10.0" lower="-3.14" upper="3.14" velocity="1.0"/>
  </joint>
  <joint name="Knuckle319" type="revolute">
    <origin rpy="0 -0 0" xyz="0.022 0 0"/>
    <parent link="leftMiddleMedial"/>
    <child link="leftMiddleDistal"/>
    <axis xyz="0 0 -1"/>
    <limit effort="10.0" lower="-3.14" upper="3.14" velocity="1.0"/>
  </joint>
  <joint name="leftIndexKnuckle1" type="revolute">
    <origin rpy="1.5708 0.785398 1.5708" xyz="0.0289159 0.0298617 -0.088883"/>
    <parent link="Body_LWP"/>
    <child link="leftIndexProximal"/>
    <axis xyz="0 0 1"/>
    <limit effort="10.0" lower="-3.14" upper="3.14" velocity="1.0"/>
  </joint>
  <joint name="Knuckle221" type="revolute">
    <origin rpy="0 -0 0" xyz="0.032 0 0"/>
    <parent link="leftIndexProximal"/>
    <child link="leftIndexMedial"/>
    <axis xyz="0 0 -1"/>
    <limit effort="10.0" lower="-3.14" upper="3.14" velocity="1.0"/>
  </joint>
  <joint name="Knuckle322" type="revolute">
    <origin rpy="0 -0 0" xyz="0.022 0 0"/>
    <parent link="leftIndexMedial"/>
    <child link="leftIndexDistal"/>
    <axis xyz="0 0 -1"/>
    <limit effort="10.0" lower="-3.14" upper="3.14" velocity="1.0"/>
  </joint>
  <joint name="RSP" type="revolute">
    <origin rpy="0 -0 0" xyz="0.0122581 -0.139027 0.0486356"/>
    <parent link="Body_Torso"/>
    <child link="Body_RSP"/>
    <axis xyz="0 1 0"/>
    <limit effort="10.0" lower="-3.14158" upper="3.14158" velocity="1.0"/>
  </joint>
  <joint name="RSR" type="revolute">
    <origin rpy="0 -0 0" xyz="0.0269 -0.072 0"/>
    <parent link="Body_RSP"/>
    <child link="Body_RSR"/>
    <axis xyz="1 0 0"/>
    <limit effort="10.0" lower="-1.5708" upper="1.5708" velocity="1.0"/>
  </joint>
  <joint name="RSY" type="revolute">
    <origin rpy="0 -0 0" xyz="-0.0269 0 -0.0245"/>
    <parent link="Body_RSR"/>
    <child link="Body_RSY"/>
    <axis xyz="0 0 1"/>
    <limit effort="10.0" lower="-3.14158" upper="3.14158" velocity="1.0"/>
  </joint>
  <joint name="REP" type="revolute">
    <origin rpy="0 -0 0" xyz="0.0219936 0.018 -0.157505"/>
    <parent link="Body_RSY"/>
    <child link="Body_REP"/>
    <axis xyz="0 1 0"/>
    <limit effort="10.0" lower="-2.49582" upper="0.0698132" velocity="1.0"/>
  </joint>
  <joint name="RWY" type="revolute">
    <origin rpy="0 -0 0" xyz="-0.0219906 -0.018 -0.111408"/>
    <parent link="Body_REP"/>
    <child link="Body_RWY"/>
    <axis xyz="0 0 1"/>
    <limit effort="10.0" lower="-3.14158" upper="3.14158" velocity="1.0"/>
  </joint>
  <joint name="RWP" type="revolute">
    <origin rpy="0 -0 0" xyz="1.72973e-06 0.01 -0.05255"/>
    <parent link="Body_RWY"/>
    <child link="Body_RWP"/>
    <axis xyz="0 1 0"/>
    <limit effort="10.0" lower="-1.64061" upper="1.01229" velocity="1.0"/>
  </joint>
  <joint name="rightThumbKnuckle1" type="revolute">
    <origin rpy="1.5708 -0.785398 1.5708" xyz="0.0208959 -0.00192069 -0.060952"/>
    <parent link="Body_RWP"/>
    <child link="rightThumbProximal"/>
    <axis xyz="0 0 1"/>
    <limit effort="10.0" lower="-3.14" upper="3.14" velocity="1.0"/>
  </joint>
  <joint name="Knuckle230" type="revolute">
    <origin rpy="0 -0 0" xyz="0.032 0 0"/>
    <parent link="rightThumbProximal"/>
    <child link="rightThumbMedial"/>
    <axis xyz="0 0 -1"/>
    <limit effort="10.0" lower="-3.14" upper="3.14" velocity="1.0"/>
  </joint>
  <joint name="Knuckle331" type="revolute">
    <origin rpy="0 -0 0" xyz="0.022 0 0"/>
    <parent link="rightThumbMedial"/>
    <child link="rightThumbDistal"/>
    <axis xyz="0 0 -1"/>
    <limit effort="10.0" lower="-3.14" upper="3.14" velocity="1.0"/>
  </joint>
  <joint name="rightPinkyKnuckle1" type="revolute">
    <origin rpy="1.5708 0.785398 -1.5708" xyz="-0.0281041 -0.0298617 -0.088883"/>
    <parent link="Body_RWP"/>
    <child link="rightPinkyProximal"/>
    <axis xyz="0 0 1"/>
    <limit effort="10.0" lower="-3.14" upper="3.14" velocity="1.0"/>
  </joint>
  <joint name="Knuckle233" type="revolute">
    <origin rpy="0 -0 0" xyz="0.032 0 0"/>
    <parent link="rightPinkyProximal"/>
    <child link="rightPinkyMedial"/>
    <axis xyz="0 0 -1"/>
    <limit effort="10.0" lower="-3.14" upper="3.14" velocity="1.0"/>
  </joint>
  <joint name="Knuckle334" type="revolute">
    <origin rpy="0 -0 0" xyz="0.022 0 0"/>
    <parent link="rightPinkyMedial"/>
    <child link="rightPinkyDistal"/>
    <axis xyz="0 0 -1"/>
    <limit effort="10.0" lower="-3.14" upper="3.14" velocity="1.0"/>
  </joint>
  <joint name="rightRingKnuckle1" type="revolute">
    <origin rpy="1.5708 0.785398 -1.5708" xyz="-0.00910415 -0.0298617 -0.088883"/>
    <parent link="Body_RWP"/>
    <child link="rightRingProximal"/>
    <axis xyz="0 0 1"/>
    <limit effort="10.0" lower="-3.14" upper="3.14" velocity="1.0"/>
  </joint>
  <joint name="Knuckle236" type="revolute">
    <origin rpy="0 -0 0" xyz="0.032 0 0"/>
    <parent link="rightRingProximal"/>
    <child link="rightRingMedial"/>
    <axis xyz="0 0 -1"/>
    <limit effort="10.0" lower="-3.14" upper="3.14" velocity="1.0"/>
  </joint>
  <joint name="Knuckle337" type="revolute">
    <origin rpy="0 -0 0" xyz="0.022 0 0"/>
    <parent link="rightRingMedial"/>
    <child link="rightRingDistal"/>
    <axis xyz="0 0 -1"/>
    <limit effort="10.0" lower="-3.14" upper="3.14" velocity="1.0"/>
  </joint>
  <joint name="rightMiddleKnuckle1" type="revolute">
    <origin rpy="1.5708 0.785398 -1.5708" xyz="0.00993585 -0.0298617 -0.088883"/>
    <parent link="Body_RWP"/>
    <child link="rightMiddleProximal"/>
    <axis xyz="0 0 1"/>
    <limit effort="10.0" lower="-3.14" upper="3.14" velocity="1.0"/>
  </joint>
  <joint name="Knuckle239" type="revolute">
    <origin rpy="0 -0 0" xyz="0.032 0 0"/>
    <parent link="rightMiddleProximal"/>
    <child link="rightMiddleMedial"/>
    <axis xyz="0 0 -1"/>
    <limit effort="10.0" lower="-3.14" upper="3.14" velocity="1.0"/>
  </joint>
  <joint name="Knuckle340" type="revolute">
    <origin rpy="0 -0 0" xyz="0.022 0 0"/>
    <parent link="rightMiddleMedial"/>
    <child link="rightMiddleDistal"/>
    <axis xyz="0 0 -1"/>
    <limit effort="10.0" lower="-3.14" upper="3.14" velocity="1.0"/>
  </joint>
  <joint name="rightIndexKnuckle1" type="revolute">
    <origin rpy="1.5708 0.785398 -1.5708" xyz="0.0289159 -0.0298617 -0.088883"/>
    <parent link="Body_RWP"/>
    <child link="rightIndexProximal"/>
    <axis xyz="0 0 1"/>
    <limit effort="10.0" lower="-3.14" upper="3.14" velocity="1.0"/>
  </joint>
  <joint name="Knuckle2" type="revolute">
    <origin rpy="0 -0 0" xyz="0.032 0 0"/>
    <parent link="rightIndexProximal"/>
    <child link="rightIndexMedial"/>
    <axis xyz="0 0 -1"/>
    <limit effort="10.0" lower="-3.14" upper="3.14" velocity="1.0"/>
  </joint>
  <joint name="Knuckle3" type="revolute">
    <origin rpy="0 -0 0" xyz="0.022 0 0"/>
    <parent link="rightIndexMedial"/>
    <child link="rightIndexDistal"/>
    <axis xyz="0 0 -1"/>
    <limit effort="10.0" lower="-3.14" upper="3.14" velocity="1.0"/>
  </joint>
  <joint name="HPY" type="revolute">
    <origin rpy="0 -0 0" xyz="0.0122662 0.00245974 -0.15262"/>
    <parent link="Body_Torso"/>
    <child link="Body_Hip"/>
    <axis xyz="0 0 1"/>
    <limit effort="10.0" lower="-3.14158" upper="3.14158" velocity="1.0"/>
  </joint>
  <joint name="LHY" type="revolute">
    <origin rpy="0 -0 0" xyz="0.000125136 0.0885155 -0.0764689"/>
    <parent link="Body_Hip"/>
    <child link="Body_LHY"/>
    <axis xyz="0 0 1"/>
    <limit effort="10.0" lower="-1.5708" upper="1.5708" velocity="1.0"/>
  </joint>
  <joint name="LHR" type="revolute">
    <origin rpy="0 -0 0" xyz="0.0520001 1.50498e-06 -0.091004"/>
    <parent link="Body_LHY"/>
    <child link="Body_LHR"/>
    <axis xyz="1 0 0"/>
    <limit effort="10.0" lower="-0.488692" upper="0.488692" velocity="1.0"/>
  </joint>
  <joint name="LHP" type="revolute">
    <origin rpy="0 -0 0" xyz="-0.0529074 0.0655748 9.99159e-05"/>
    <parent link="Body_LHR"/>
    <child link="Body_LHP"/>
    <axis xyz="0 1 0"/>
    <limit effort="10.0" lower="-1.48353" upper="1.6057" velocity="1.0"/>
  </joint>
  <joint name="LKP" type="revolute">
    <origin rpy="0 -0 0" xyz="0.000766364 -0.0445011 -0.280007"/>
    <parent link="Body_LHP"/>
    <child link="Body_LKP"/>
    <axis xyz="0 1 0"/>
    <limit effort="10.0" lower="-0.0698132" upper="2.60054" velocity="1.0"/>
  </joint>
  <joint name="LAP" type="revolute">
    <origin rpy="0 -0 0" xyz="7.20248e-06 0.0247555 -0.279942"/>
    <parent link="Body_LKP"/>
    <child link="Body_LAP"/>
    <axis xyz="0 1 0"/>
    <limit effort="10.0" lower="-1.29154" upper="1.69297" velocity="1.0"/>
  </joint>
  <joint name="LAR" type="revolute">
    <origin rpy="0 -0 0" xyz="0.0711787 -0.0466006 -1.04e-10"/>
    <parent link="Body_LAP"/>
    <child link="Body_LAR"/>
    <axis xyz="1 0 0"/>
    <limit effort="10.0" lower="-0.191986" upper="0.191986" velocity="1.0"/>
  </joint>
  <joint name="RHY" type="revolute">
    <origin rpy="0 -0 0" xyz="0.000125136 -0.0884999 -0.0764689"/>
    <parent link="Body_Hip"/>
    <child link="Body_RHY"/>
    <axis xyz="0 0 1"/>
    <limit effort="10.0" lower="-1.5708" upper="1.5708" velocity="1.0"/>
  </joint>
  <joint name="RHR" type="revolute">
    <origin rpy="0 -0 0" xyz="0.0520001 7.3455e-05 -0.091004"/>
    <parent link="Body_RHY"/>
    <child link="Body_RHR"/>
    <axis xyz="1 0 0"/>
    <limit effort="10.0" lower="-0.488692" upper="0.488692" velocity="1.0"/>
  </joint>
  <joint name="RHP" type="revolute">
    <origin rpy="0 -0 0" xyz="-0.0529074 -0.0655748 9.99159e-05"/>
    <parent link="Body_RHR"/>
    <child link="Body_RHP"/>
    <axis xyz="0 1 0"/>
    <limit effort="10.0" lower="-1.48353" upper="1.6057" velocity="1.0"/>
  </joint>
  <joint name="RKP" type="revolute">
    <origin rpy="0 -0 0" xyz="0.000766364 0.0445011 -0.280007"/>
    <parent link="Body_RHP"/>
    <child link="Body_RKP"/>
    <axis xyz="0 1 0"/>
    <limit effort="10.0" lower="-0.0698132" upper="2.60054" velocity="1.0"/>
  </joint>
  <joint name="RAP" type="revolute">
    <origin rpy="0 -0 0" xyz="7.20248e-06 -0.0247555 -0.279942"/>
    <parent link="Body_RKP"/>
    <child link="Body_RAP"/>
    <axis xyz="0 1 0"/>
    <limit effort="10.0" lower="-1.29154" upper="1.69297" velocity="1.0"/>
  </joint>
  <joint name="RAR" type="revolute">
    <origin rpy="0 -0 0" xyz="0.0711787 0.0466006 -1.04e-10"/>
    <parent link="Body_RAP"/>
    <child link="Body_RAR"/>
    <axis xyz="1 0 0"/>
    <limit effort="10.0" lower="-0.191986" upper="0.191986" velocity="1.0"/>
  </joint>
</robot>
